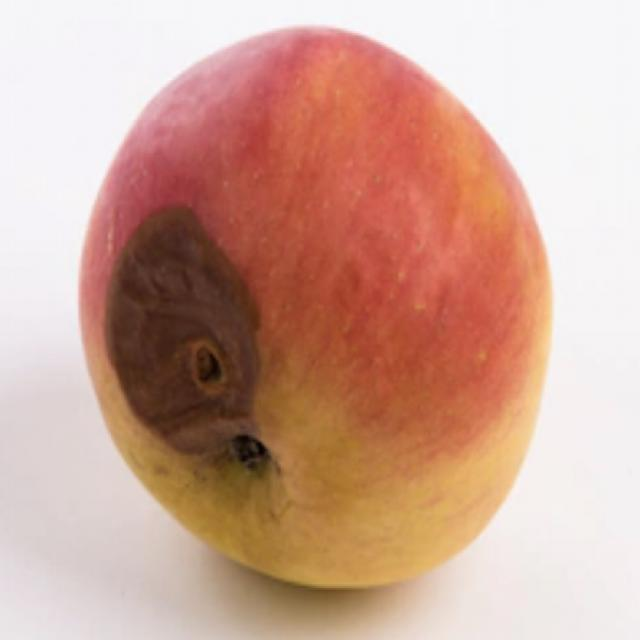Rotten: (66, 23, 556, 592)
